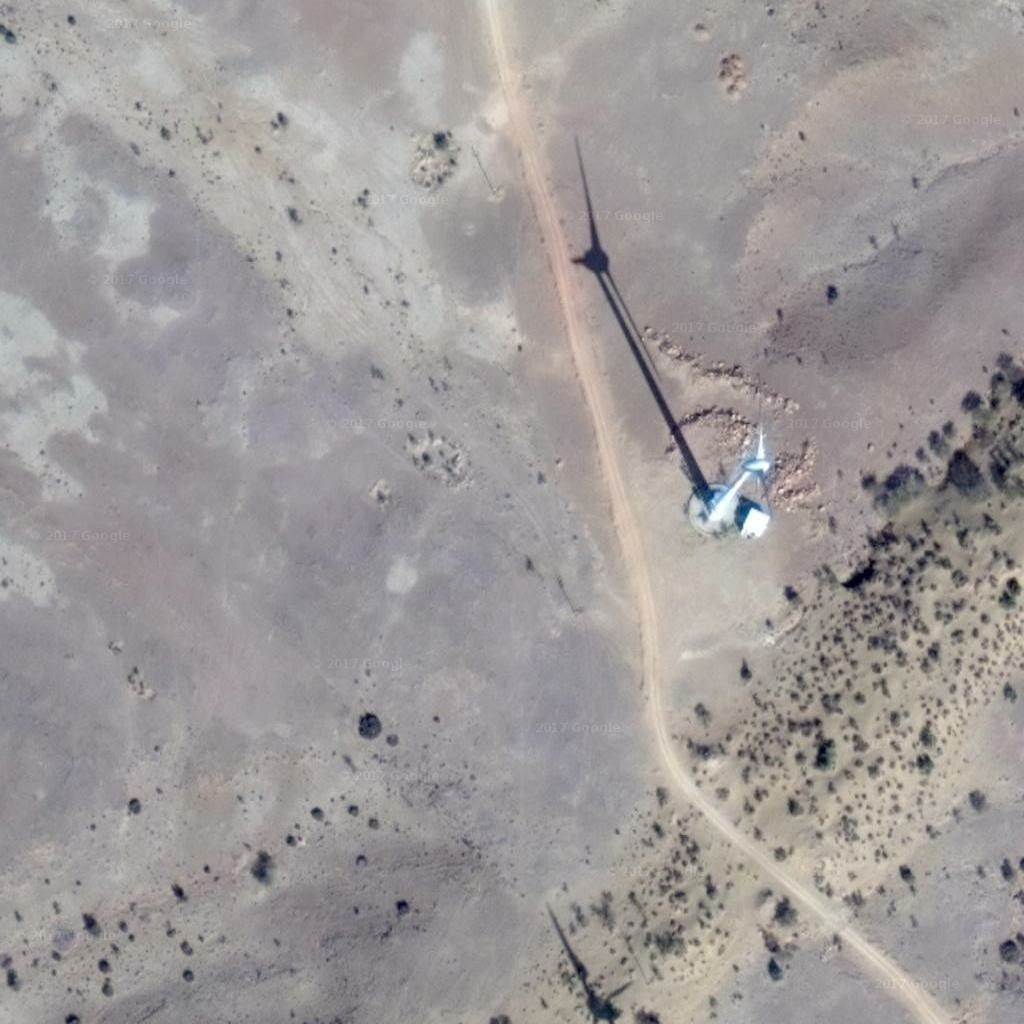Windmill: (555, 139, 725, 496)
